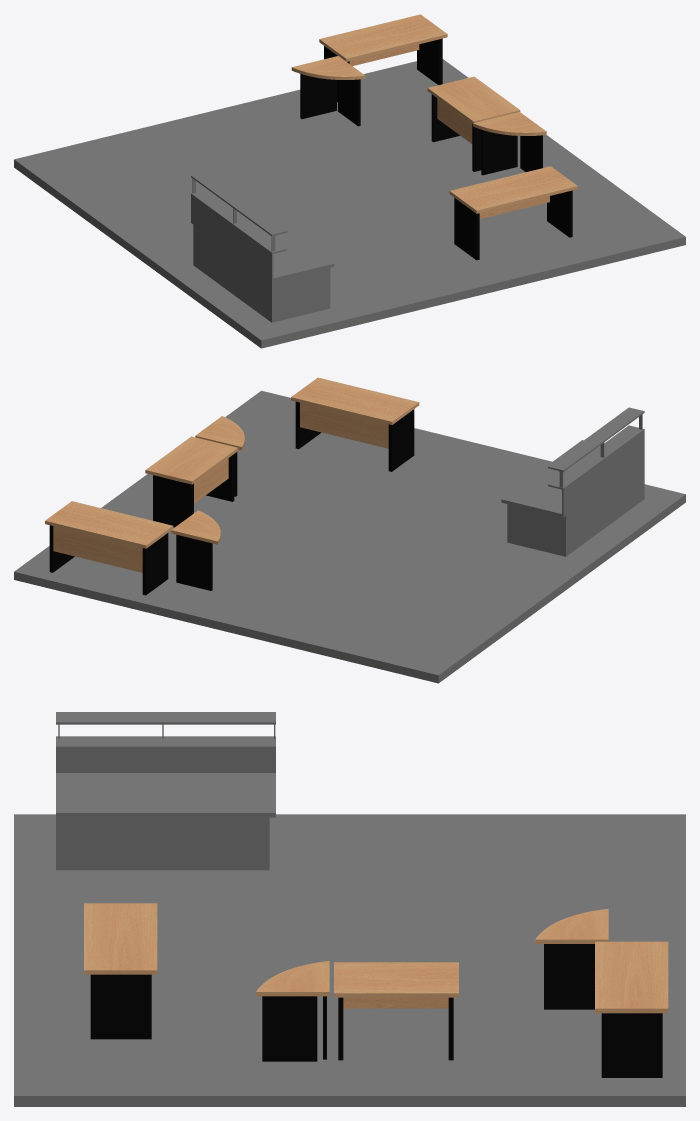
File: room4.obj
3 renders of one model, top to bottom at view 1: azimuth 30°, elevation 25°; view 2: azimuth 150°, elevation 25°; view 3: azimuth 270°, elevation 25°, orthographic. The views are drawn at different scales.
Parts seen in each view (by area): view 1: pCube44 group30, group30 pCube67, group30 pCube48, group30 pCube54, group30 pCube61, group30 pCube66, group30 pCube68, group30 pCube71, group30 pCube62, group30 pCube56, group30 pCube69, group30 pCube49 (+8 smaller); view 2: pCube44 group30, group30 pCube67, group30 pCube48, group30 pCube54, group30 pCube61, group30 pCube53, group30 pCube66, group30 pCube51, group30 pCube68, group30 pCube56, group30 pCube58, group30 pCube71 (+9 smaller); view 3: pCube44 group30, group30 pCube67, group30 pCube66, group30 pCube54, group30 pCube48, group30 pCube68, group30 pCube61, group30 pCube50, group30 pCube55, group30 pCube63, group30 pCube57, group30 pCube71 (+4 smaller).
Boxes of the visible parts, <box> form: pCube44 group30: <box>14,59,685,348</box>; group30 pCube67: <box>193,225,330,322</box>; group30 pCube48: <box>449,166,577,213</box>; group30 pCube54: <box>319,14,447,61</box>; group30 pCube61: <box>427,76,520,123</box>; group30 pCube66: <box>191,204,334,281</box>; group30 pCube68: <box>191,195,273,278</box>; group30 pCube71: <box>191,171,287,236</box>; group30 pCube62: <box>481,129,517,175</box>; group30 pCube56: <box>300,74,336,119</box>; group30 pCube69: <box>191,189,287,254</box>; group30 pCube49: <box>454,198,479,260</box>; pCube44 group30: <box>14,390,685,683</box>; group30 pCube67: <box>507,458,644,556</box>; group30 pCube48: <box>291,377,419,424</box>; group30 pCube54: <box>45,501,173,548</box>; group30 pCube61: <box>145,436,238,484</box>; group30 pCube53: <box>53,526,142,572</box>; group30 pCube66: <box>501,440,644,517</box>; group30 pCube51: <box>300,402,388,448</box>; group30 pCube68: <box>562,431,644,514</box>; group30 pCube56: <box>176,534,212,590</box>; group30 pCube58: <box>153,475,193,527</box>; group30 pCube71: <box>548,407,644,471</box>; pCube44 group30: <box>14,814,685,1106</box>; group30 pCube67: <box>56,817,269,870</box>; group30 pCube66: <box>56,773,275,817</box>; group30 pCube54: <box>595,941,668,1013</box>; group30 pCube48: <box>84,903,157,974</box>; group30 pCube68: <box>56,749,275,772</box>; group30 pCube61: <box>334,962,458,997</box>; group30 pCube50: <box>90,974,151,1039</box>; group30 pCube55: <box>601,1013,662,1077</box>; group30 pCube63: <box>262,996,317,1061</box>; group30 pCube57: <box>544,944,594,1009</box>; group30 pCube71: <box>56,712,275,724</box>.
Bounding box in the file's own units: 545 × 118 × 550.
